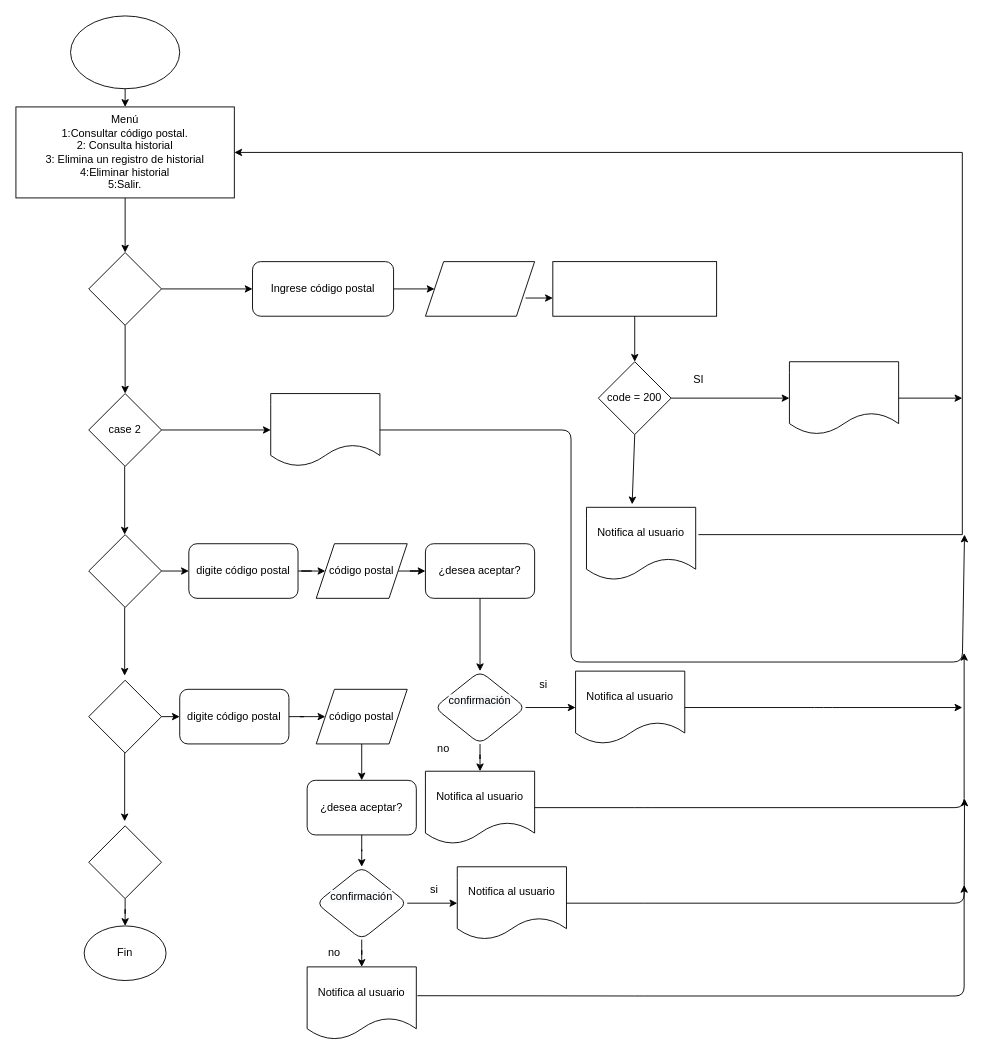
The diagram is 988 pixels wide and 1056 high, and some of its shapes have lost their labels. Each missing label, with the box of its shape:
Case 1: (88, 252, 162, 325)
case 3: (88, 534, 162, 607)
case 4: (88, 679, 162, 753)
case 5: (88, 825, 162, 899)
Codigo postal: (425, 261, 535, 316)
Inicio: (70, 15, 180, 89)
Muestra información: (270, 393, 380, 466)
Muestrra información: (789, 361, 899, 435)
Solicitud GET + Código postal: (552, 261, 717, 316)
